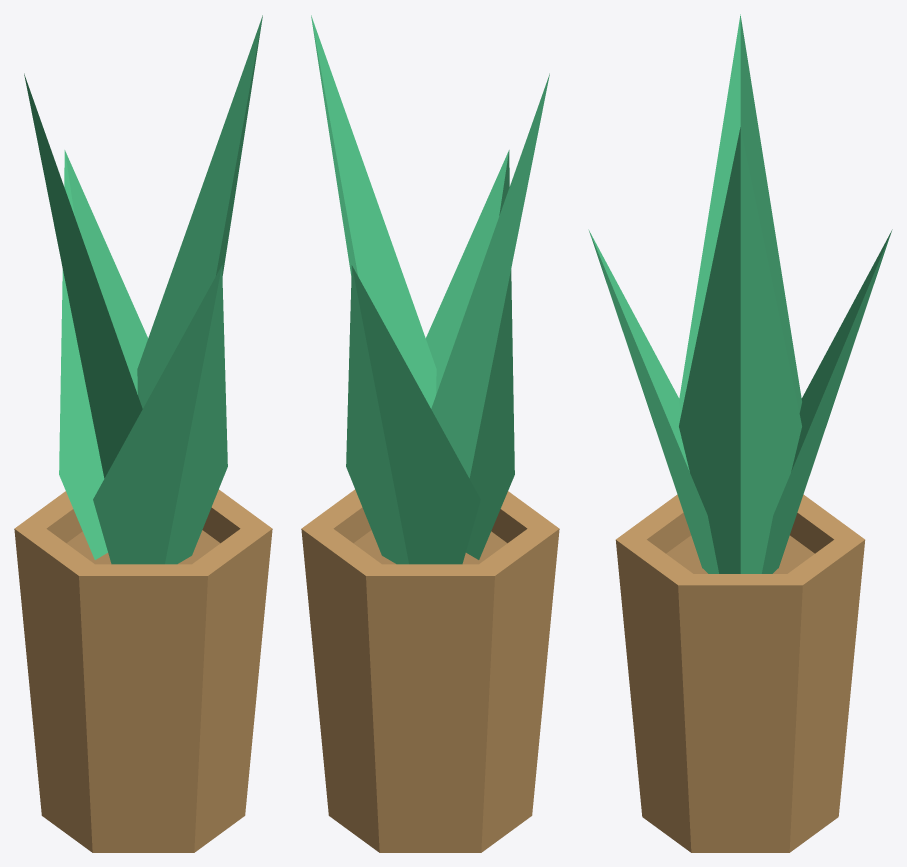
The model's file is pottedPlant.glb.
3 renders of one model, left to right at view 1: azimuth 30°, elevation 25°; view 2: azimuth 150°, elevation 25°; view 3: azimuth 270°, elevation 25°, orthographic. The views are drawn at different scales.
Bounding box in the file's own units: 2.12 × 6.54 × 2.41.
